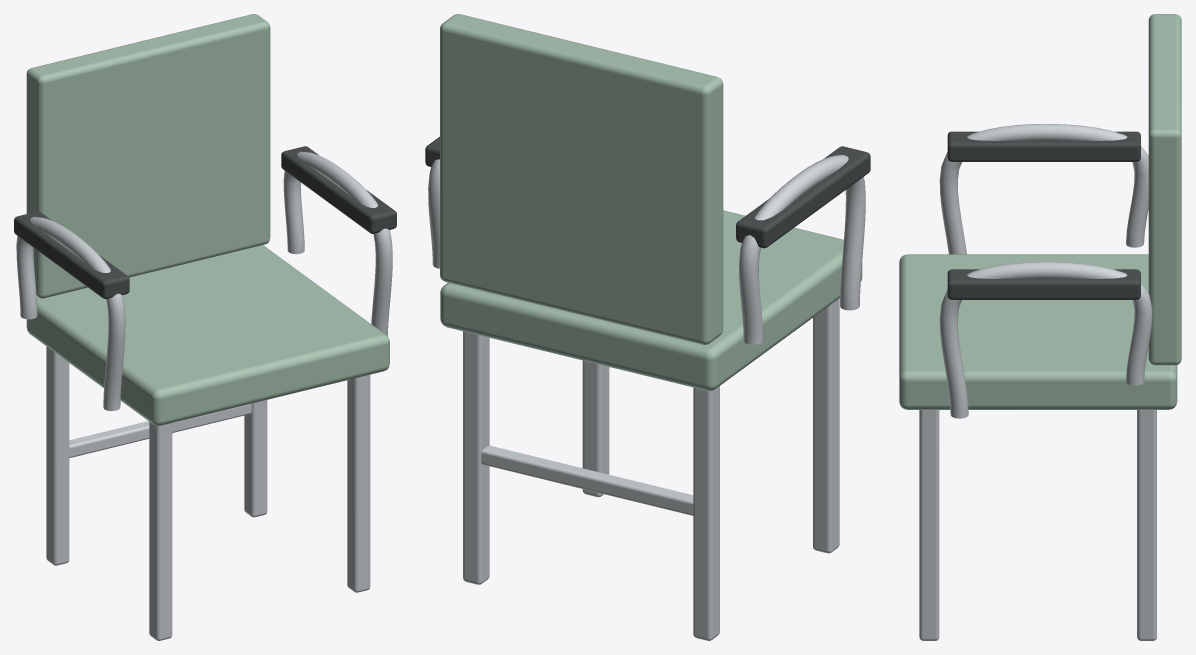
The model's file is hearing-aid-and-audiology-clinic-acoustic-booth-patien-de5706d2__31723.glb.
The picture shows the model from 3 angles, left to right: view 1: azimuth 30°, elevation 25°; view 2: azimuth 150°, elevation 25°; view 3: azimuth 270°, elevation 25°; orthographic projection. The views are drawn at different scales.
Visible parts, largest first — view 1: acoustic-booth-patient-chair; view 2: acoustic-booth-patient-chair; view 3: acoustic-booth-patient-chair.
Part boxes in pixels (<box>): acoustic-booth-patient-chair: <box>14,14,396,640</box>; acoustic-booth-patient-chair: <box>425,14,870,640</box>; acoustic-booth-patient-chair: <box>899,14,1181,640</box>.
Size of the model in its own units: 0.595 by 0.94 by 0.4675.
